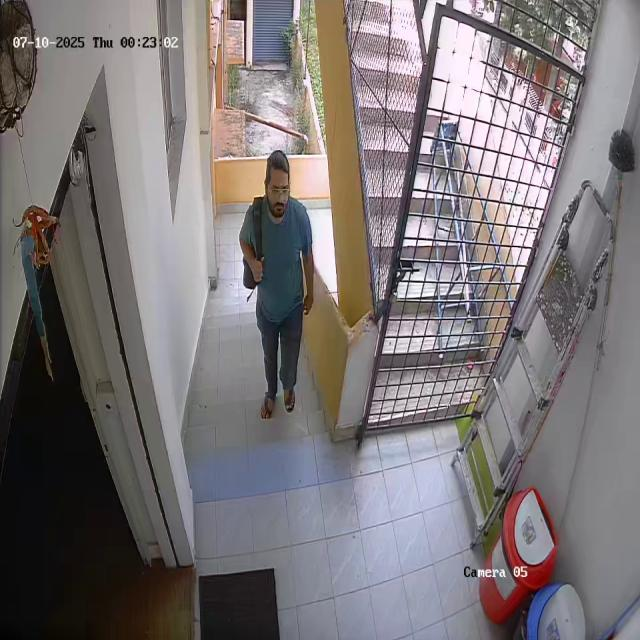person: (233, 146, 320, 417)
